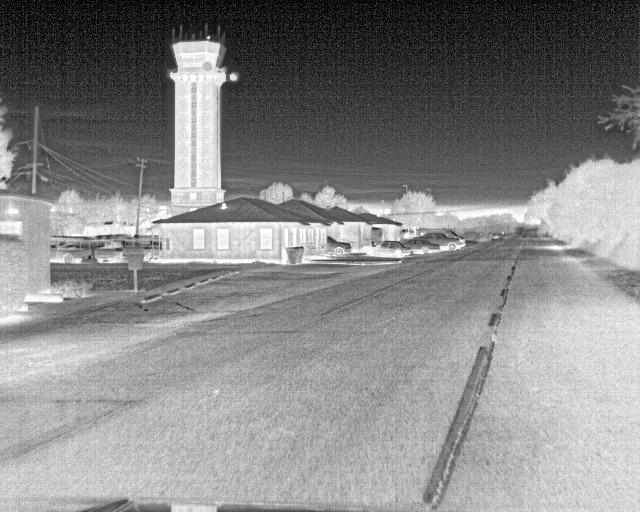car: (49, 233, 92, 265), (368, 239, 412, 258), (93, 239, 127, 263), (424, 235, 459, 250), (326, 234, 352, 254), (403, 239, 437, 253)
